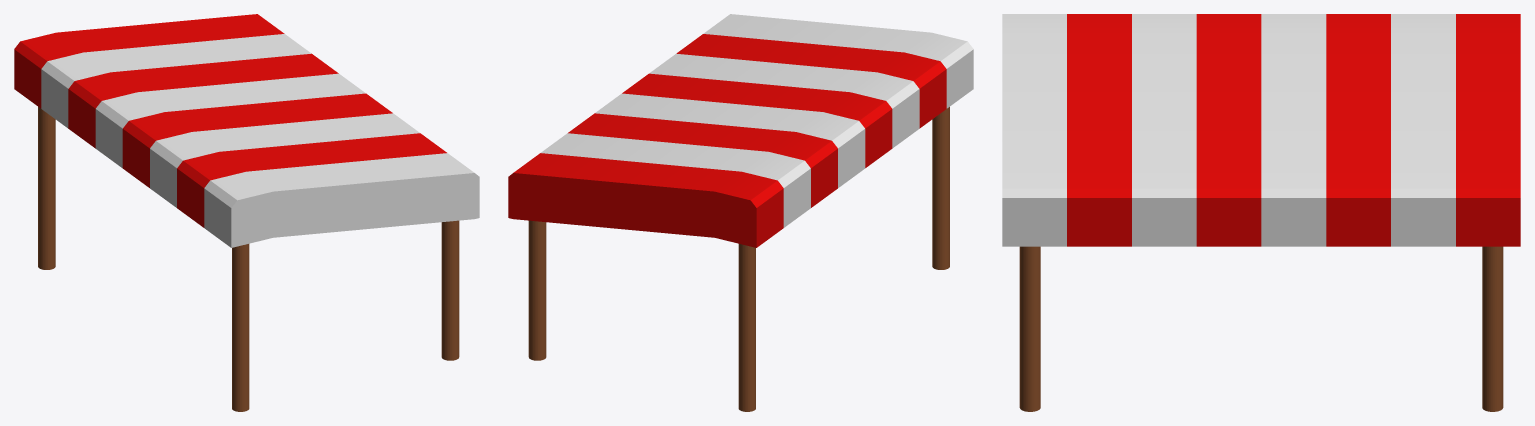
Rendered from Carnival Tent Small.fbx.
The picture shows the model from 3 angles, left to right: view 1: azimuth 30°, elevation 25°; view 2: azimuth 150°, elevation 25°; view 3: azimuth 270°, elevation 25°; orthographic projection. The views are drawn at different scales.
Visible parts, largest first — view 1: Plane, Cylinder.002, Cylinder.003, Cylinder; view 2: Plane, Cylinder.003, Cylinder.002, Cylinder.001; view 3: Plane, Cylinder, Cylinder.001.
Boxes of the visible parts, x1,y1,x2,y2 form: Plane: [14, 14, 479, 247]; Cylinder.002: [232, 244, 249, 411]; Cylinder.003: [38, 107, 55, 269]; Cylinder: [441, 220, 459, 360]; Plane: [508, 14, 973, 247]; Cylinder.003: [738, 244, 755, 411]; Cylinder.002: [932, 107, 949, 269]; Cylinder.001: [528, 220, 546, 360]; Plane: [1002, 14, 1520, 246]; Cylinder: [1019, 246, 1040, 411]; Cylinder.001: [1482, 246, 1503, 411].
Size of the model in its own units: 1184 by 1003 by 1793.
